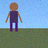person: (6, 2, 22, 31)
